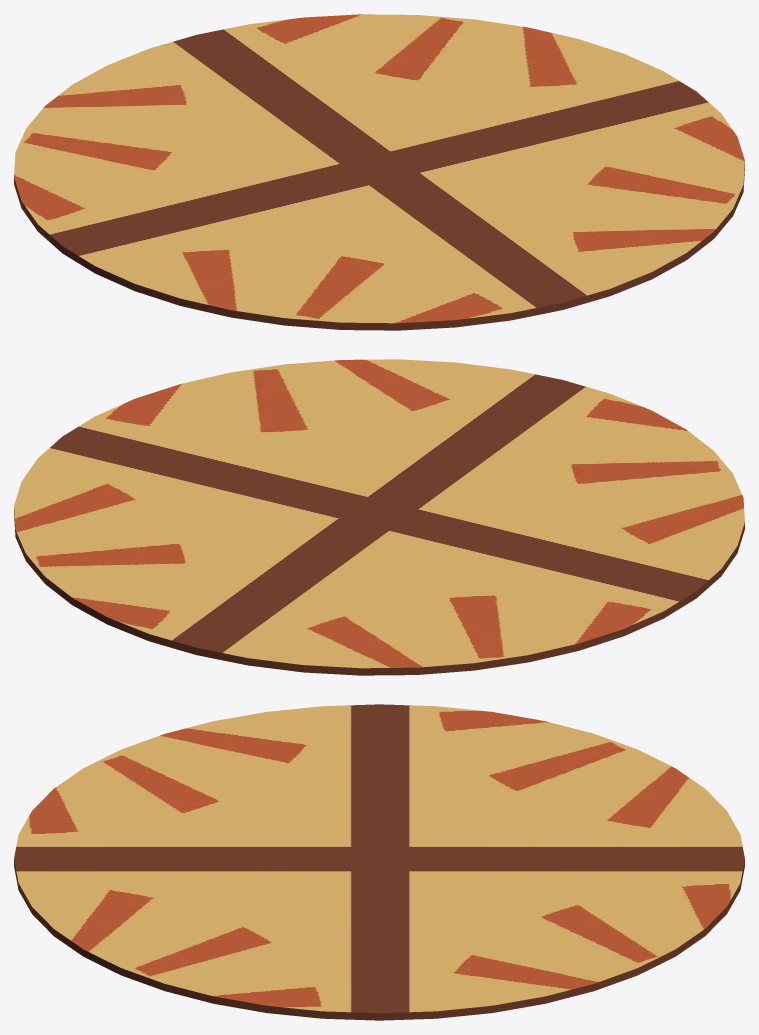
The picture shows the model from 3 angles, top to bottom: view 1: azimuth 30°, elevation 25°; view 2: azimuth 150°, elevation 25°; view 3: azimuth 270°, elevation 25°; orthographic projection.
Parts seen in each view (by area): view 1: Decor_rug_round; view 2: Decor_rug_round; view 3: Decor_rug_round.
Part boxes in pixels (x1=…): Decor_rug_round: x1=14, y1=14, x2=744, y2=330; Decor_rug_round: x1=14, y1=359, x2=744, y2=675; Decor_rug_round: x1=14, y1=704, x2=744, y2=1020.
Size of the model in its own units: 1.8 by 0.02 by 1.8.
1 material, 1 textured.
